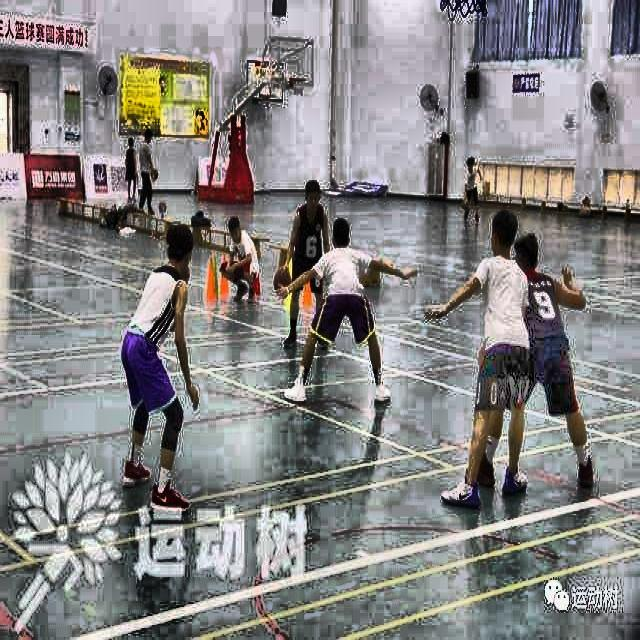board: (273, 264, 291, 290)
